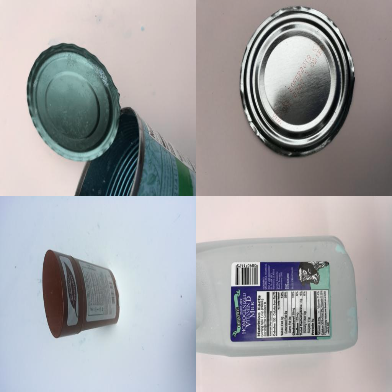metal: (25, 43, 196, 195), (239, 7, 356, 158)
plastic: (196, 235, 360, 357)
trash: (41, 249, 119, 338)
